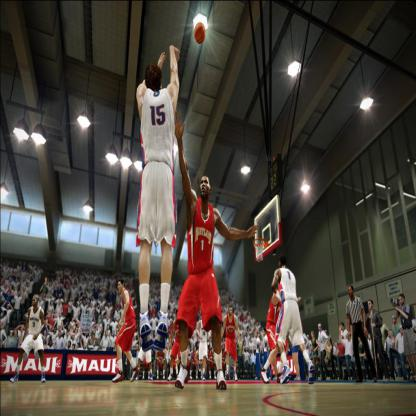face: (202, 176, 211, 200), (118, 281, 123, 293), (33, 296, 38, 307), (348, 288, 353, 299), (400, 296, 403, 305), (230, 308, 233, 316), (369, 301, 372, 309)
